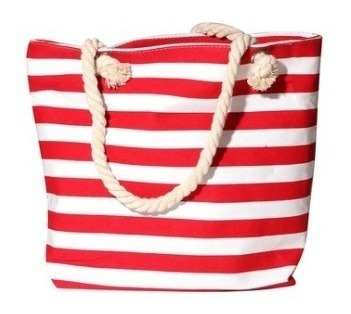cartera: (24, 20, 324, 291)
